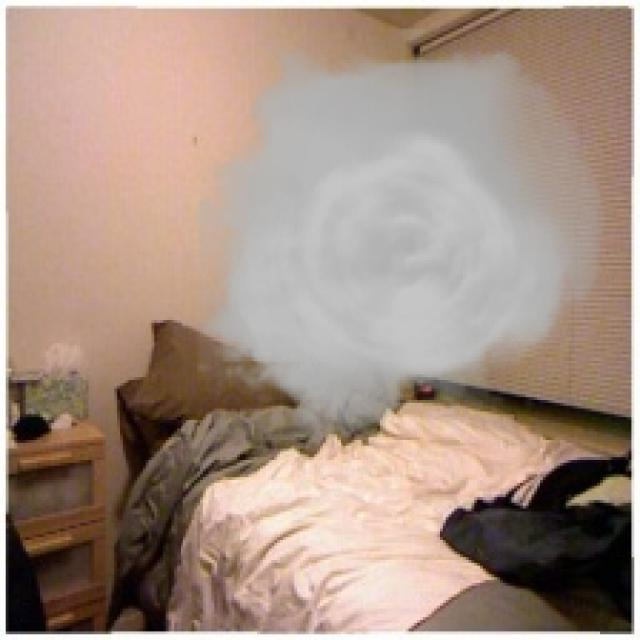smoke: (197, 29, 606, 448)
